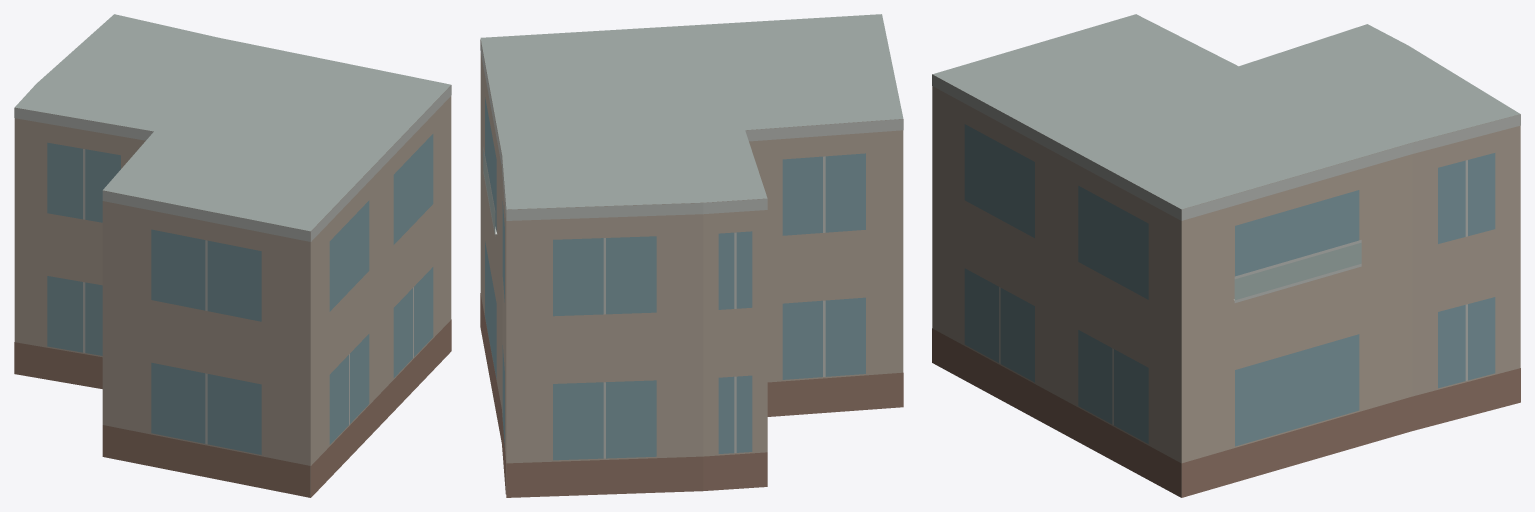
The model's file is survey-upis-32753725.glb.
3 renders of one model, left to right at view 1: azimuth 30°, elevation 25°; view 2: azimuth 150°, elevation 25°; view 3: azimuth 270°, elevation 25°, orthographic. The views are drawn at different scales.
Visible parts, largest first — view 1: survey-upis-32753725.tmp; view 2: survey-upis-32753725.tmp; view 3: survey-upis-32753725.tmp.
Part boxes in pixels (box(x1,y1,x2,y2)): survey-upis-32753725.tmp: box(14, 14, 451, 497); survey-upis-32753725.tmp: box(480, 14, 903, 497); survey-upis-32753725.tmp: box(932, 14, 1520, 497).
Bounding box in the file's own units: 8.87 × 6.1 × 11.29.
